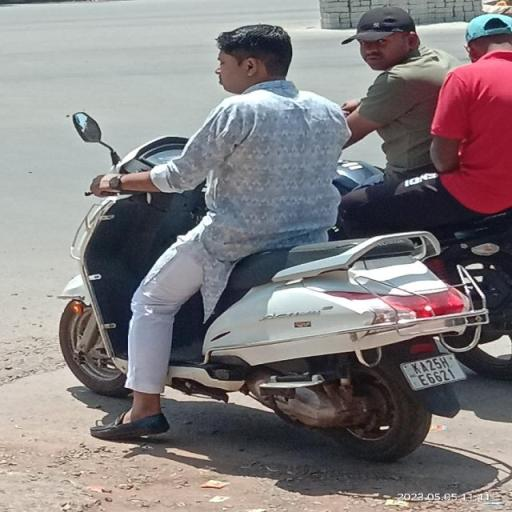bike: (38, 20, 496, 455)
numberplate: (394, 339, 471, 398)
withouthelmet: (218, 26, 290, 88)
